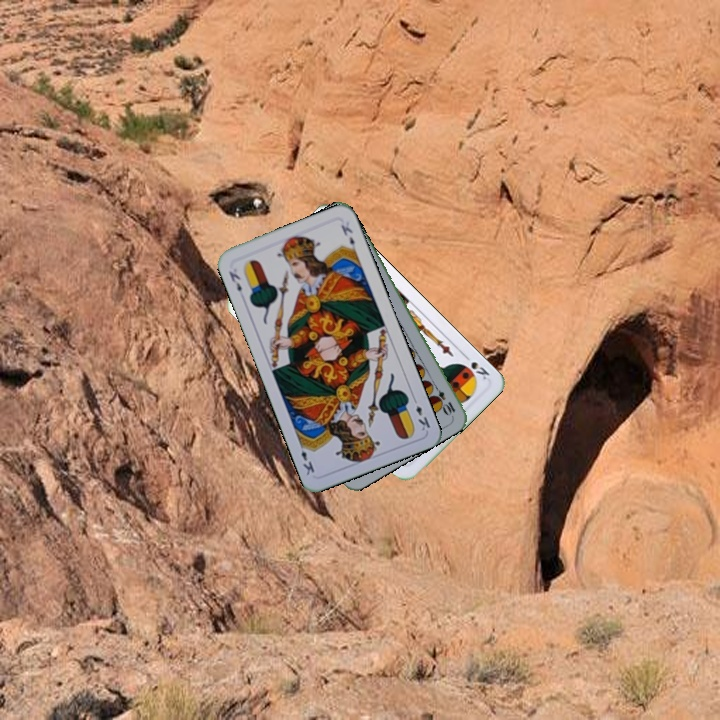E10: (428, 380, 458, 417)
EK: (409, 393, 433, 433), (224, 267, 244, 294)
SK: (459, 350, 492, 382)
